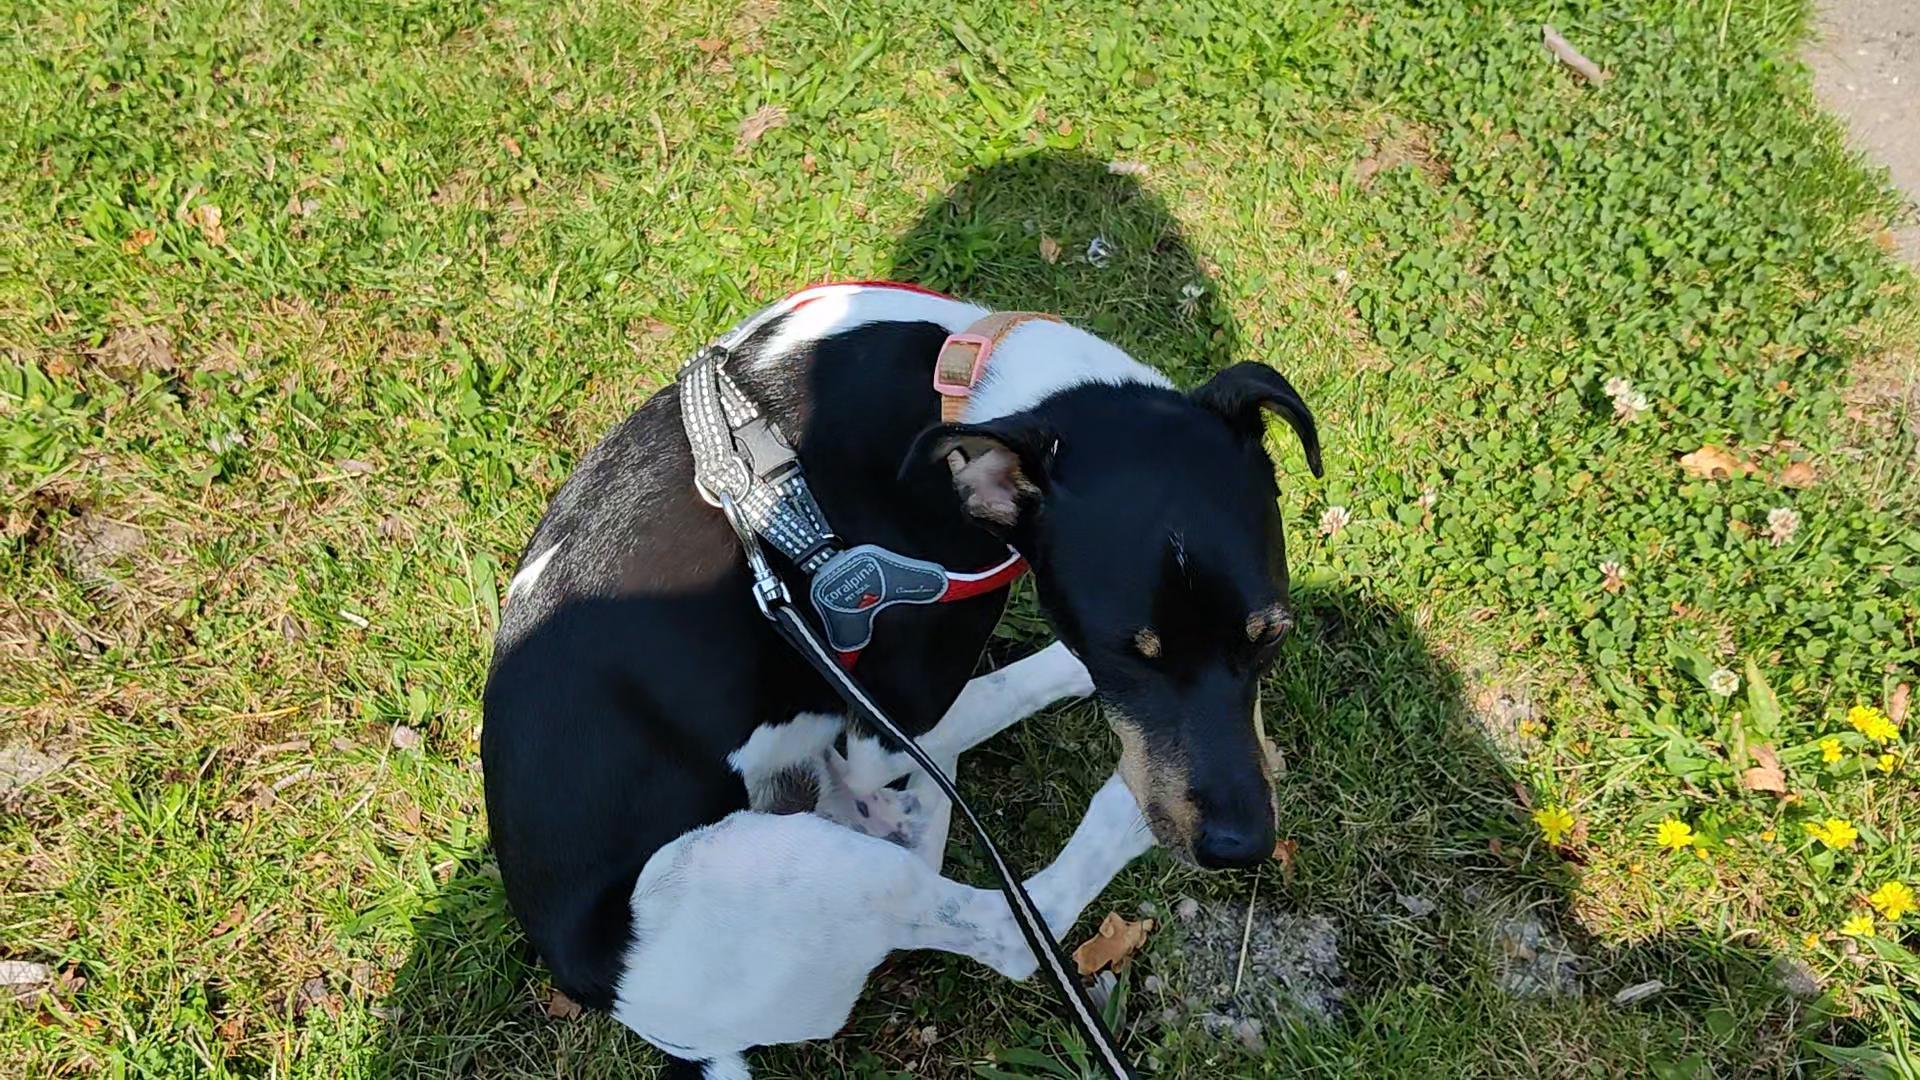Dog: (471, 270, 1325, 1079)
